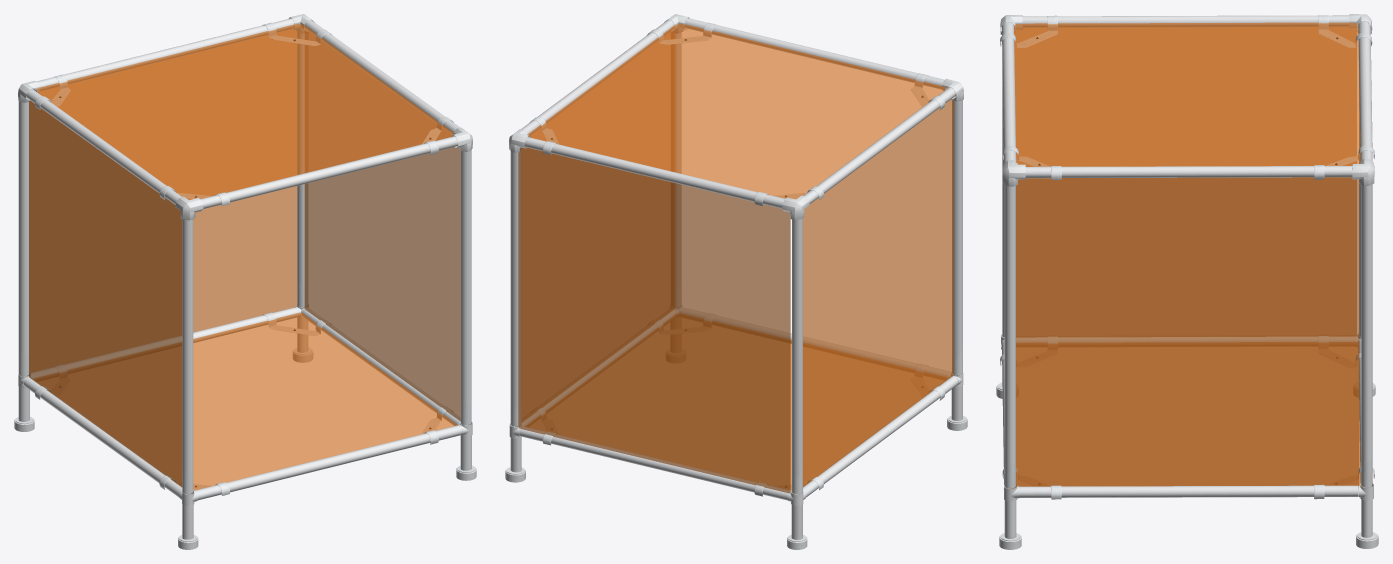
File: shelf.glb
The picture shows the model from 3 angles, left to right: view 1: azimuth 30°, elevation 25°; view 2: azimuth 150°, elevation 25°; view 3: azimuth 270°, elevation 25°; orthographic projection. The views are drawn at different scales.
Parts seen in each view (by area): view 1: panelback, panelleft, panelright, panel, panel2, pipes; view 2: panelback, panelleft, panelright, panel, panel2, pipes; view 3: panelright, panelleft, panel, panel2, pipes, Suppoter.005, Suppoter.006, 3TConnector.003, 3TConnector.004, Cylinder.016.
Part boxes in pixels (x1=…): panelback: x1=30, y1=29, x2=297, y2=372; panelleft: x1=29, y1=100, x2=182, y2=486; panelright: x1=304, y1=31, x2=460, y2=421; panel: x1=36, y1=23, x2=453, y2=199; panel2: x1=34, y1=312, x2=456, y2=490; pipes: x1=18, y1=18, x2=471, y2=500; panelback: x1=516, y1=147, x2=790, y2=493; panelleft: x1=803, y1=99, x2=954, y2=486; panelright: x1=522, y1=30, x2=674, y2=421; panel: x1=528, y1=23, x2=945, y2=199; panel2: x1=525, y1=313, x2=947, y2=490; pipes: x1=510, y1=18, x2=962, y2=500; panelright: x1=1012, y1=177, x2=1359, y2=488; panelleft: x1=1014, y1=27, x2=1356, y2=337; panel: x1=1014, y1=22, x2=1360, y2=166; panel2: x1=1016, y1=342, x2=1362, y2=486; pipes: x1=1002, y1=15, x2=1372, y2=497; Suppoter.005: x1=1000, y1=15, x2=1057, y2=47; Suppoter.006: x1=1318, y1=15, x2=1372, y2=47; 3TConnector.003: x1=1002, y1=160, x2=1025, y2=186; 3TConnector.004: x1=1352, y1=158, x2=1374, y2=186; Cylinder.016: x1=1004, y1=500, x2=1016, y2=538.
Size of the model in its own units: 2.12 by 2.33 by 2.12.
7 materials, 5 textured.
